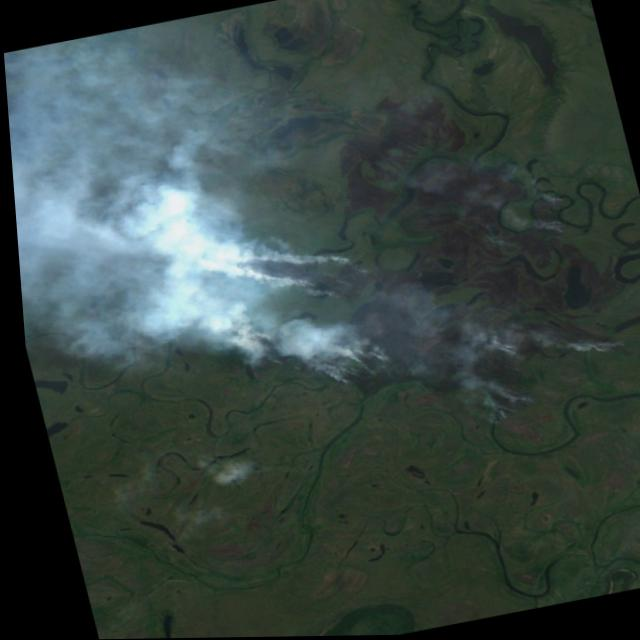fire: (202, 163, 640, 472)
